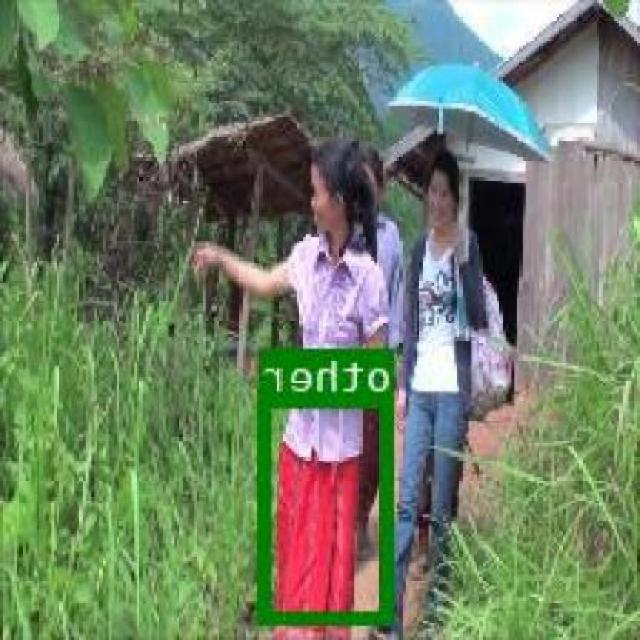other: (260, 392, 396, 620)
